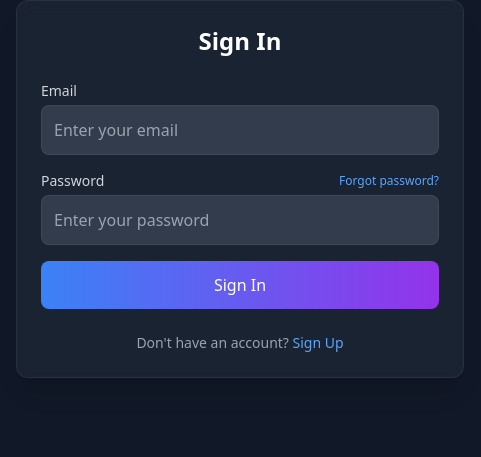
Test: Login Component › displays error message when login fails
The image size is (481, 457).
In the field labelled "Email": [240, 130] box [41, 105, 439, 155], type "test@example.com"
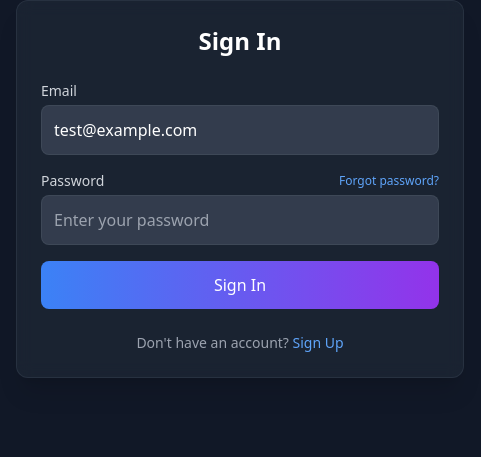
In the password field labelled "Password": [240, 220] box [41, 195, 439, 245], type "wrongpassword"
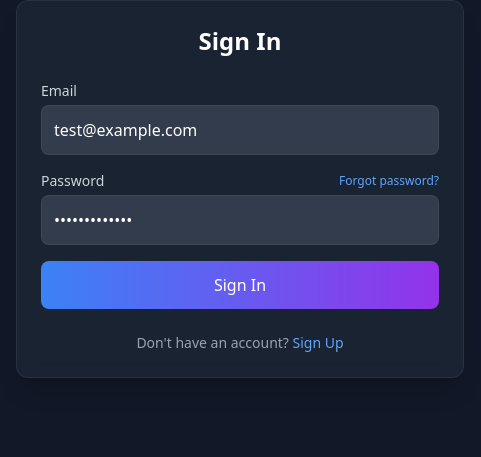
Click the button "Sign In": [240, 285] box [41, 261, 439, 309]
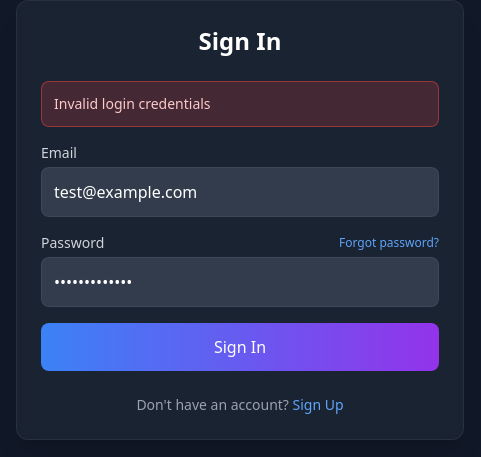
Expected: the text "Invalid login credentials" is shown, [41, 81, 439, 127]
